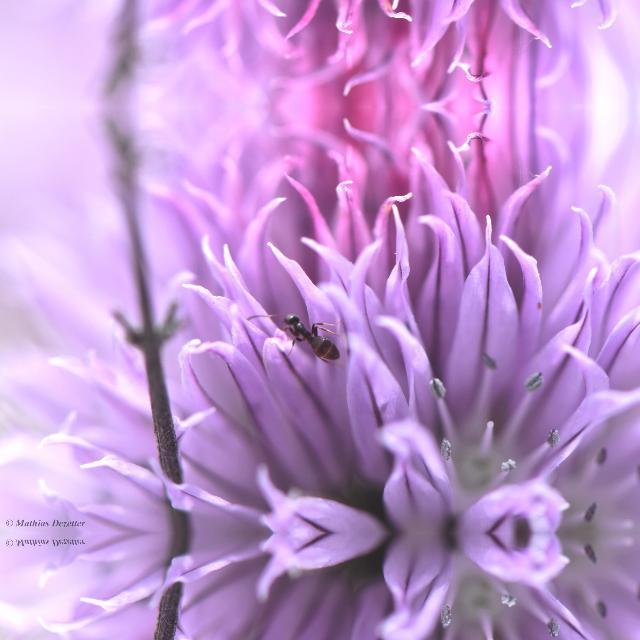Tapinoma: (269, 305, 351, 363), (542, 618, 564, 640), (544, 424, 564, 446), (582, 544, 602, 566), (582, 500, 602, 520), (594, 446, 610, 466), (594, 599, 610, 619)
